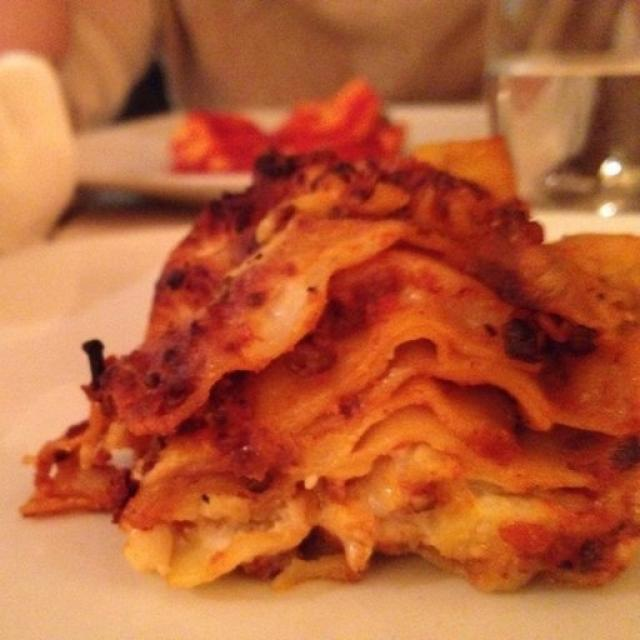Lasagna: (51, 109, 640, 600)
